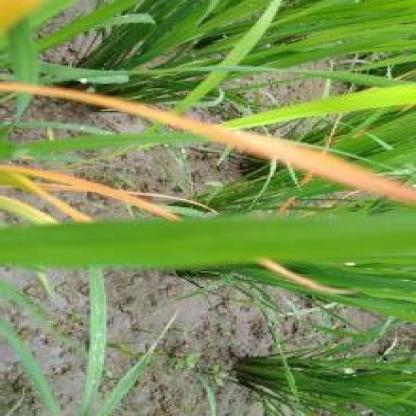Tungro: (1, 84, 415, 205)
